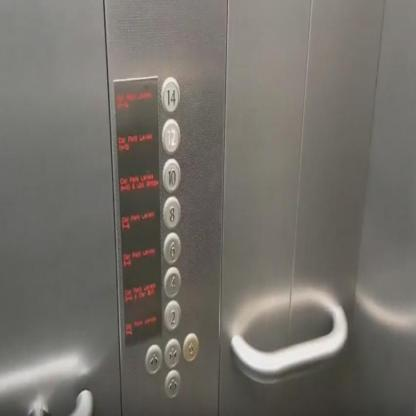10: (162, 157, 180, 192)
12: (161, 118, 180, 153)
14: (161, 76, 179, 111)
2: (164, 299, 181, 331)
4: (163, 265, 181, 297)
6: (162, 230, 181, 264)
8: (162, 194, 180, 230)
alarm: (181, 331, 199, 361)
close: (163, 336, 181, 368)
open: (145, 342, 162, 373), (164, 369, 180, 398)
